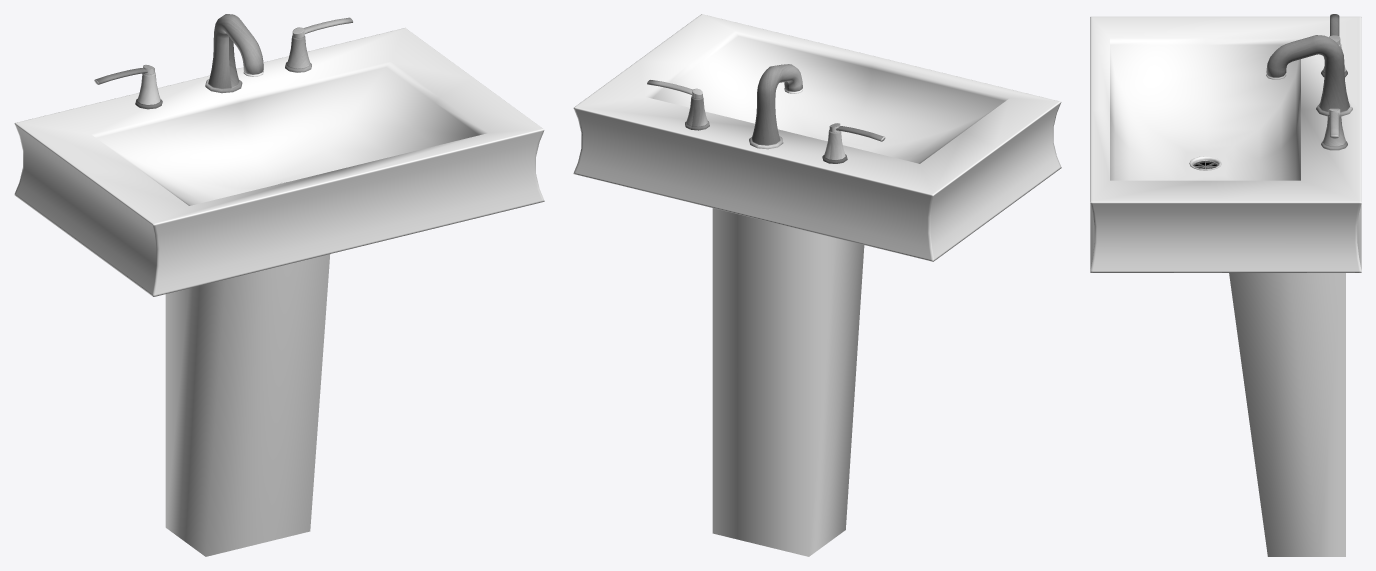
Rendered from Lavabo.obj.
The picture shows the model from 3 angles, left to right: view 1: azimuth 30°, elevation 25°; view 2: azimuth 150°, elevation 25°; view 3: azimuth 270°, elevation 25°; orthographic projection. The views are drawn at different scales.
Visible parts, largest first — view 1: Cube_Cube.002, Circle.001_Circle.005; view 2: Cube_Cube.002, Circle.001_Circle.005; view 3: Cube_Cube.002, Circle.001_Circle.005.
Part boxes in pixels (box(x1,y1,x2,y2)): Cube_Cube.002: box(14, 28, 544, 556); Circle.001_Circle.005: box(94, 14, 352, 184); Cube_Cube.002: box(573, 14, 1061, 556); Circle.001_Circle.005: box(647, 64, 885, 163); Cube_Cube.002: box(1090, 16, 1361, 556); Circle.001_Circle.005: box(1189, 14, 1352, 170).
Size of the model in its own units: 3.24 by 4.03 by 2.
